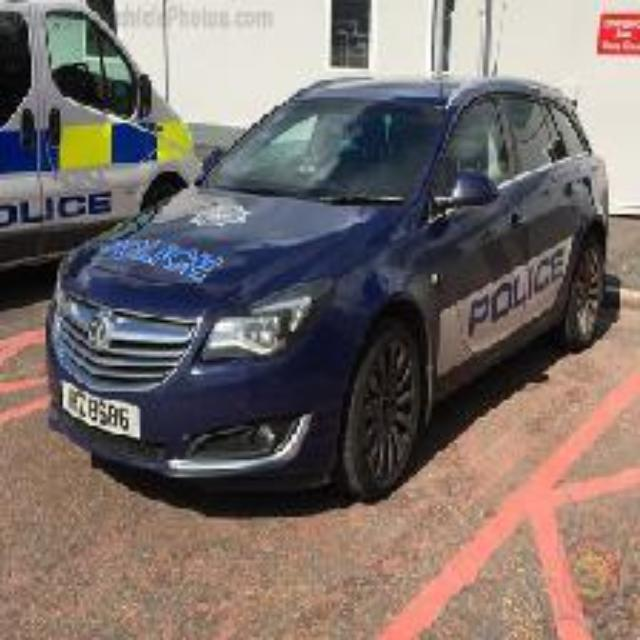emergency: (57, 64, 608, 484)
